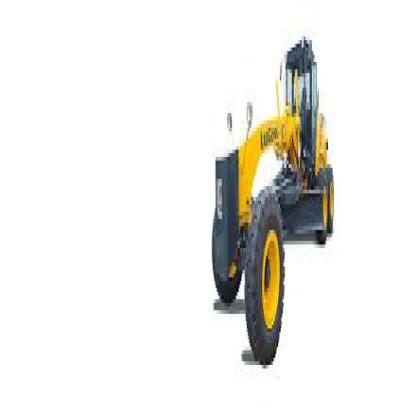bull_dozer/loader/grader: (209, 29, 342, 383)
